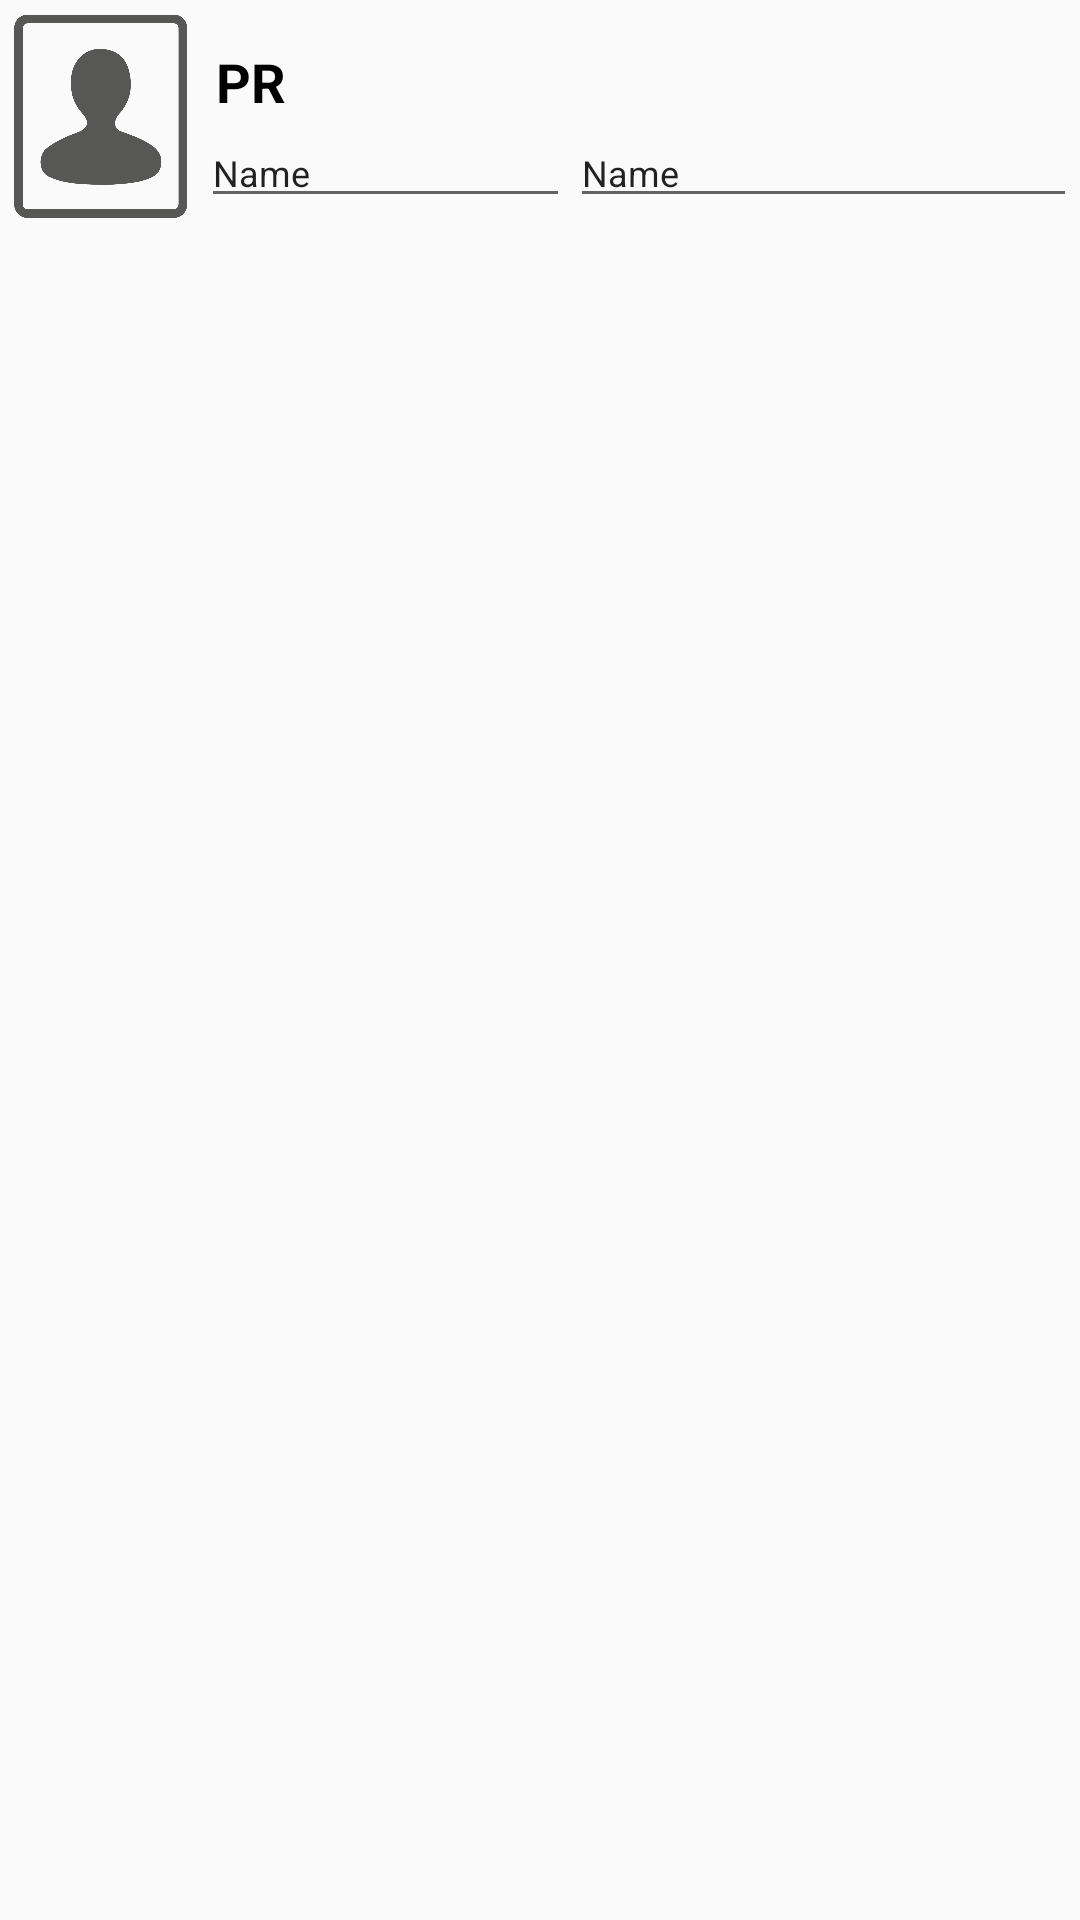

Locate icon controls on the screen. Image size 1080 x 1920, boxes as {"left": x1, "top": y1, "right": x2, "bottom": y2}.
contacto: {"left": 14, "top": 15, "right": 187, "bottom": 218}
